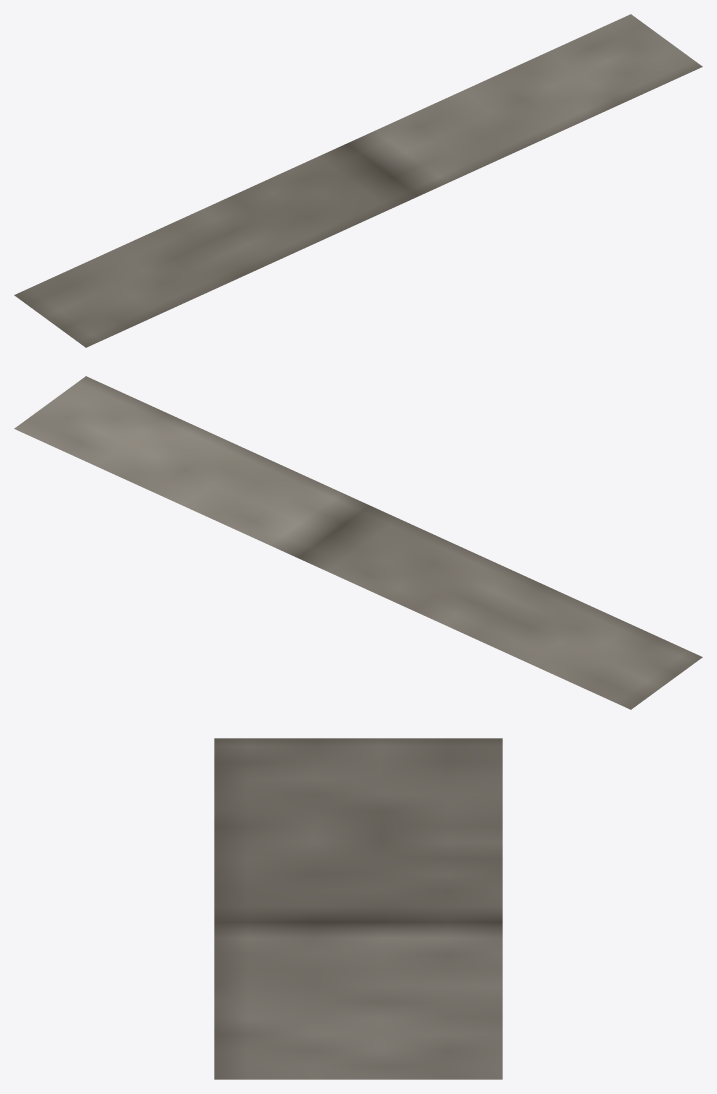
The model's file is tunel_silnicni_vrch_0.glb.
3 renders of one model, top to bottom at view 1: azimuth 30°, elevation 25°; view 2: azimuth 150°, elevation 25°; view 3: azimuth 270°, elevation 25°, orthographic. The views are drawn at different scales.
Visible parts, largest first — view 1: tunel_silnicni_vrch_0; view 2: tunel_silnicni_vrch_0; view 3: tunel_silnicni_vrch_0.
Boxes of the visible parts, <box> form: tunel_silnicni_vrch_0: <box>14,14,702,347</box>; tunel_silnicni_vrch_0: <box>14,376,702,709</box>; tunel_silnicni_vrch_0: <box>214,738,502,1079</box>.
Bounding box in the file's own units: 4.95 × 1 × 1.
1 material, 1 textured.
